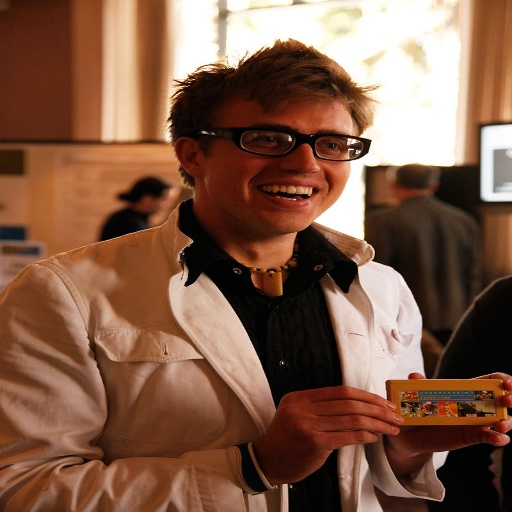hand: (258, 387, 419, 477), (388, 371, 511, 459)
